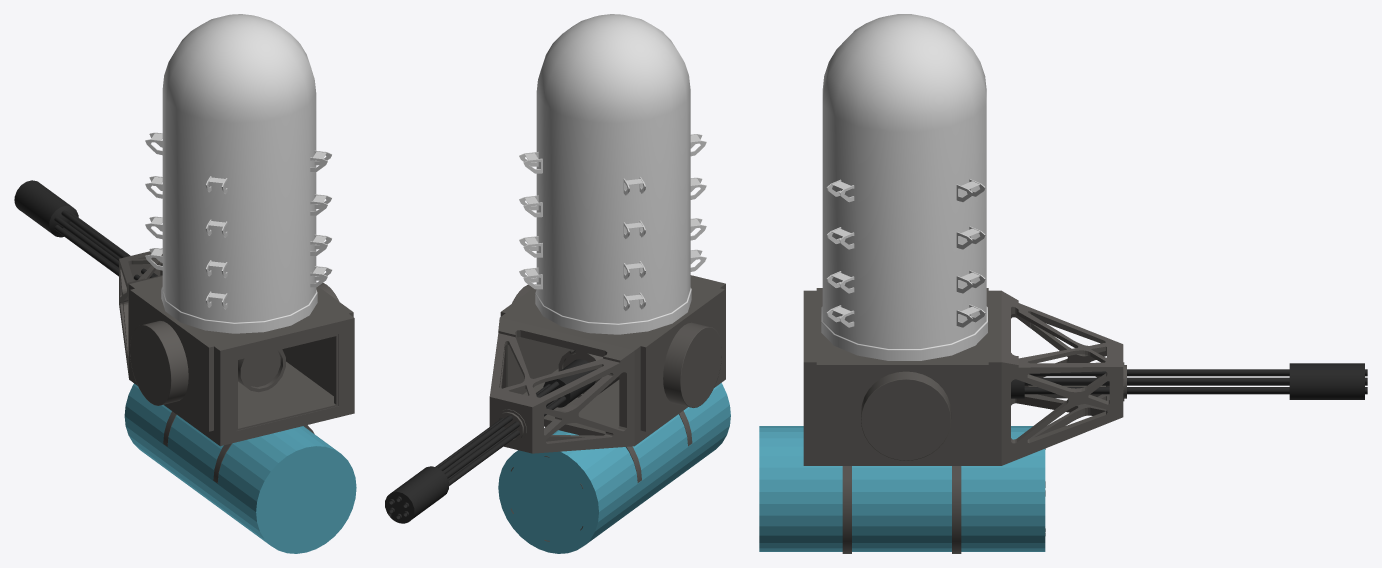
File: CIWS_Barrel_Dst.fbx
3 views of the same model, side by side, from view 1: azimuth 30°, elevation 25°; view 2: azimuth 150°, elevation 25°; view 3: azimuth 270°, elevation 25° (orthographic). The views are drawn at different scales.
Parts seen in each view (by area): view 1: CIWS_Barrel_LOD0, UCL_Barrel; view 2: CIWS_Barrel_LOD0, UCL_Barrel; view 3: CIWS_Barrel_LOD0, UCL_Barrel.
Boxes of the visible parts, x1,y1,x2,y2 form: CIWS_Barrel_LOD0: (14, 14, 354, 483); UCL_Barrel: (124, 383, 356, 553); CIWS_Barrel_LOD0: (385, 14, 725, 541); UCL_Barrel: (498, 383, 730, 553); CIWS_Barrel_LOD0: (803, 14, 1367, 553); UCL_Barrel: (759, 426, 1045, 551).
Size of what is drawn, in the model's own units: 119 by 311 by 327.
